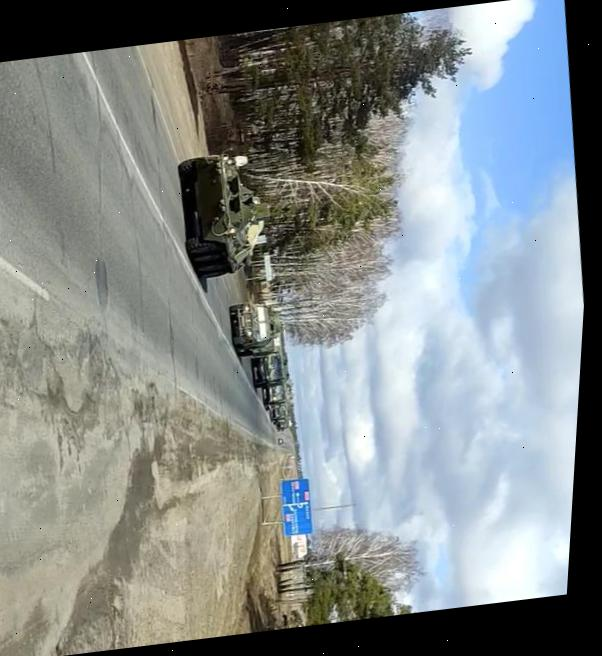armored_car: (225, 296, 283, 352)
tank: (166, 144, 276, 283)
truck: (247, 351, 287, 388), (257, 380, 289, 406), (263, 404, 293, 424)
